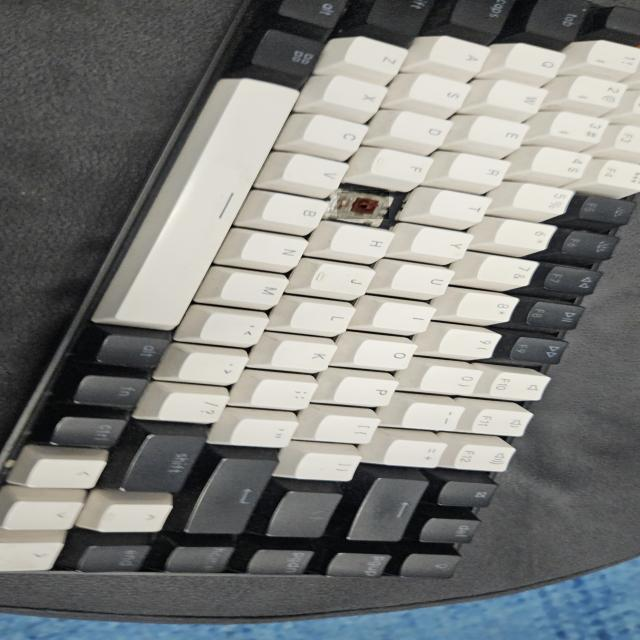C: (337, 192, 389, 219), (348, 193, 389, 225), (349, 190, 385, 223)
